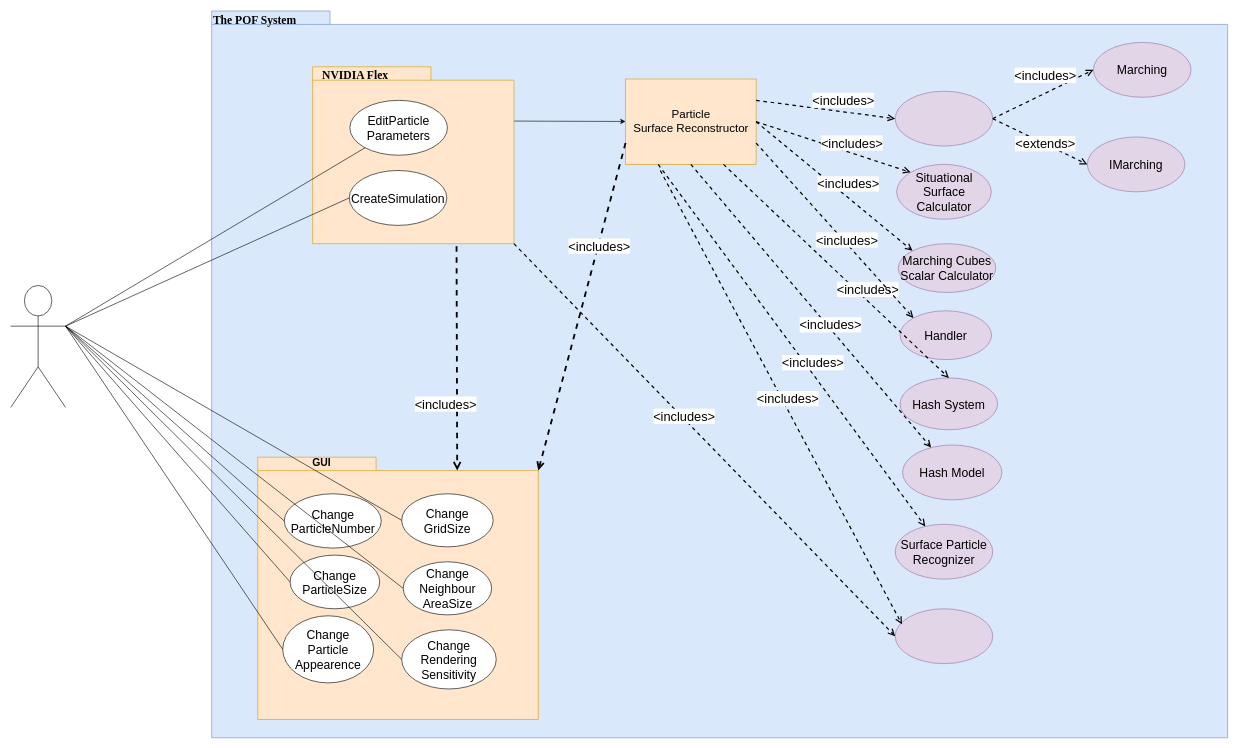
This 1238x748 diagram has some shape labels left out. The box of each missing label's shape, as (x1, y1, x2, y2) in pixels:
Marching Cubes: (895, 91, 993, 146)
Particle: (895, 608, 993, 664)
User: (10, 285, 66, 407)
